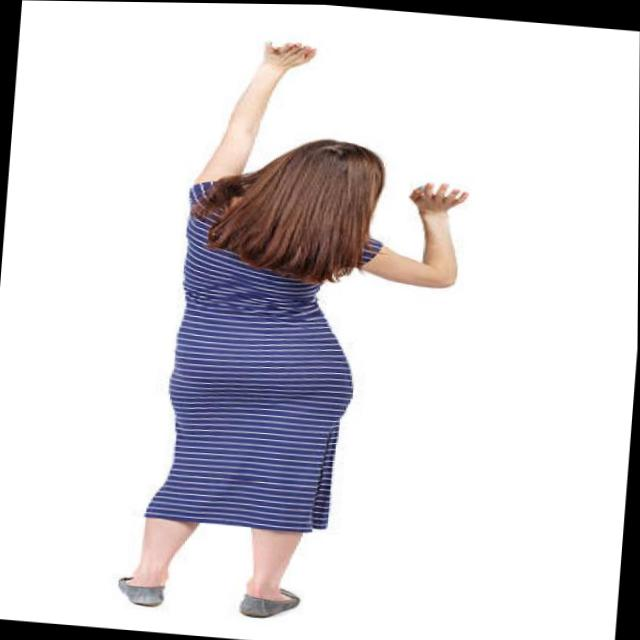no helmet: (255, 126, 391, 217)
